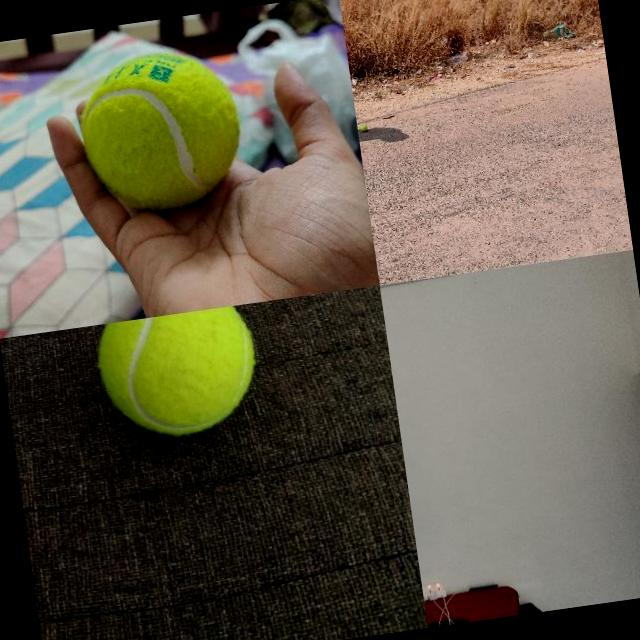Tennis Ball: (73, 42, 250, 218), (93, 304, 266, 446), (361, 124, 368, 130)
